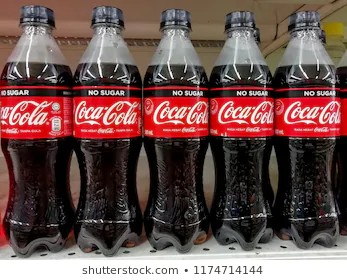coke-diet/zero-bottle-700ml: (70, 2, 144, 254), (4, 3, 77, 252), (272, 3, 341, 250), (142, 6, 209, 253), (210, 1, 275, 255)
